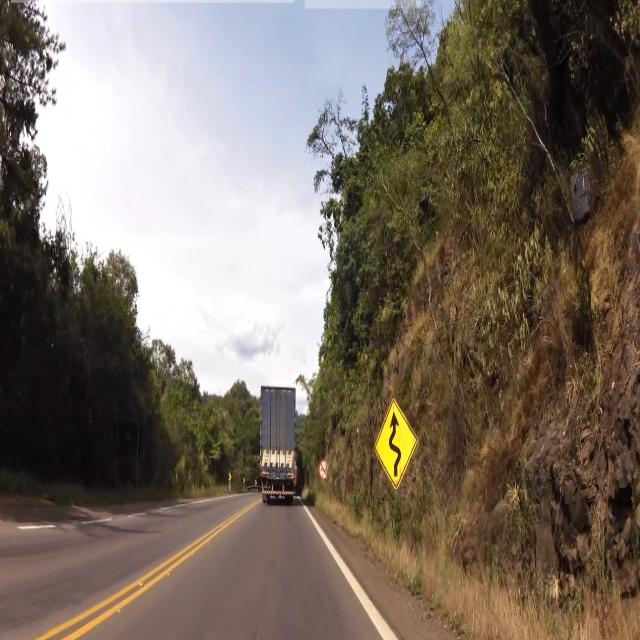A-3b: (371, 384, 422, 496)
